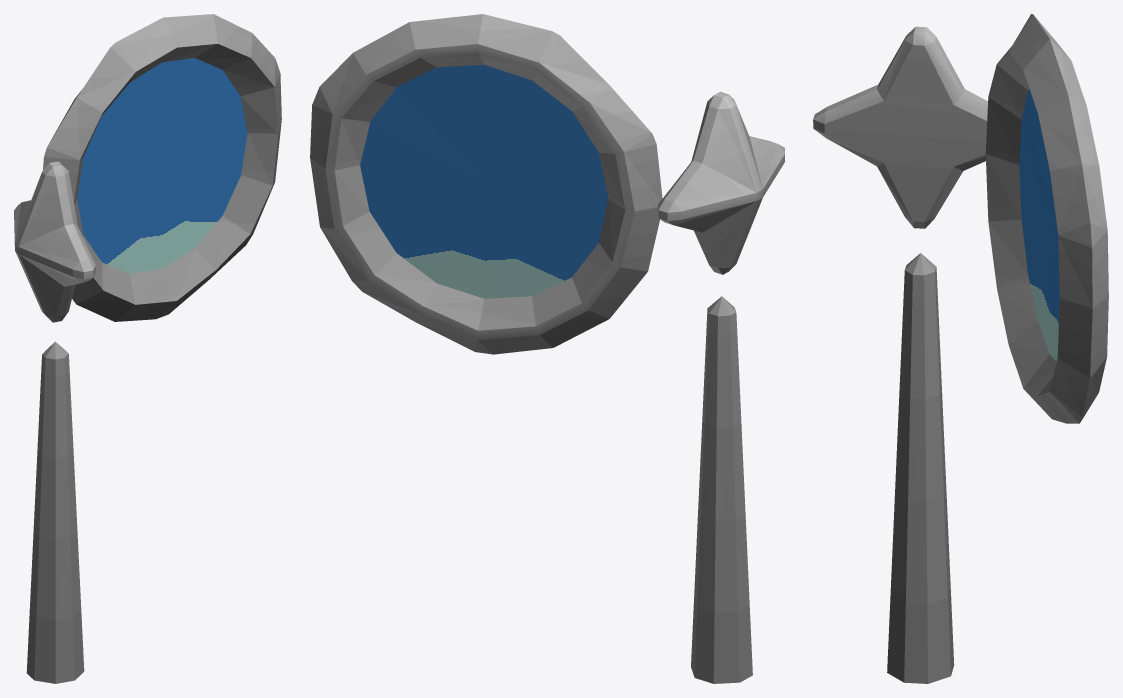
The model's file is CharSkyKid_Face_Monocle.glb.
3 views of the same model, side by side, from view 1: azimuth 30°, elevation 25°; view 2: azimuth 150°, elevation 25°; view 3: azimuth 270°, elevation 25° (orthographic). The views are drawn at different scales.
Parts seen in each view (by area): view 1: CharSkyKid_Face_Monocle; view 2: CharSkyKid_Face_Monocle; view 3: CharSkyKid_Face_Monocle.
Boxes of the visible parts, <box> form: CharSkyKid_Face_Monocle: <box>14,14,281,683</box>; CharSkyKid_Face_Monocle: <box>310,14,784,683</box>; CharSkyKid_Face_Monocle: <box>813,14,1108,683</box>.
Bounding box in the file's own units: 1.07 × 1.78 × 0.6553.
Materials: 1 (1 with a texture image).
